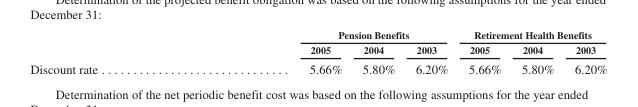table: (29, 28, 606, 76)
table column: (29, 28, 203, 76), (203, 28, 351, 76), (351, 28, 404, 76), (404, 28, 457, 76), (457, 28, 510, 76), (510, 28, 563, 76), (563, 28, 606, 76)
table column header: (29, 28, 606, 58)
table row: (29, 58, 606, 76), (29, 41, 606, 58), (29, 28, 606, 41)
table spanning cell: (203, 28, 457, 41), (457, 28, 606, 41)
